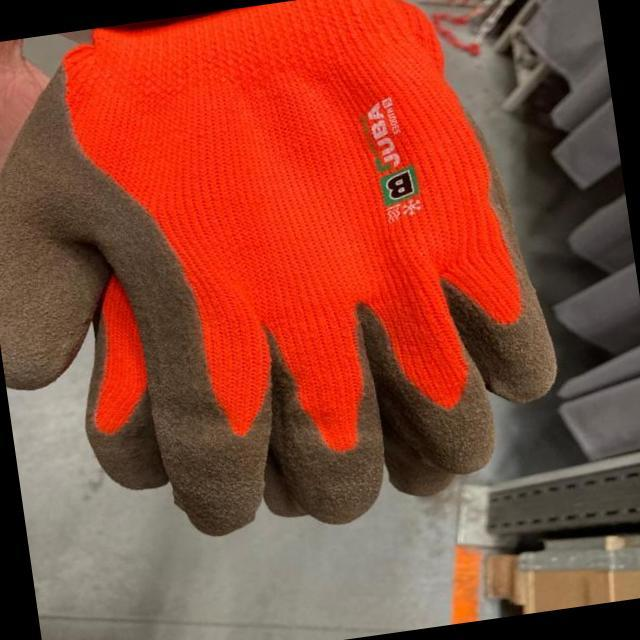glove: (0, 7, 567, 540)
